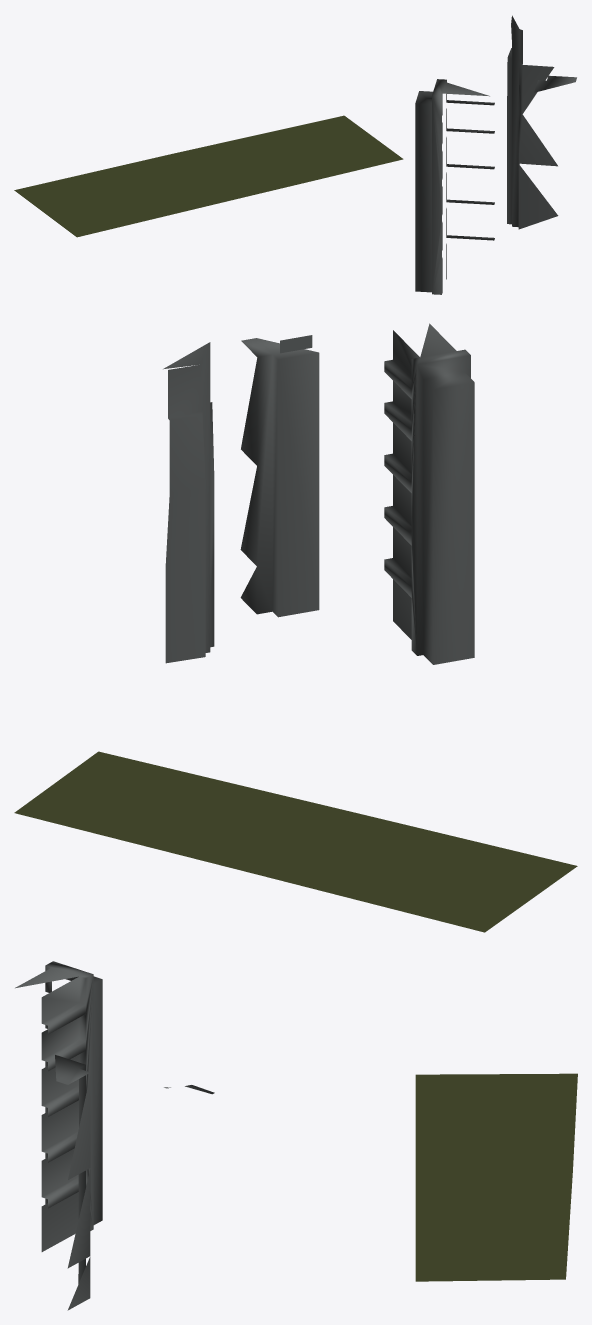
3 views of the same model, one above another, from view 1: azimuth 30°, elevation 25°; view 2: azimuth 150°, elevation 25°; view 3: azimuth 270°, elevation 25° (orthographic). The views are drawn at different scales.
Parts seen in each view (by area): view 1: merged__lod1; view 2: merged__lod1; view 3: merged__lod1.
Boxes of the visible parts, x1=… form: merged__lod1: x1=14, y1=15, x2=576, y2=294; merged__lod1: x1=14, y1=323, x2=577, y2=932; merged__lod1: x1=15, y1=961, x2=577, y2=1310.
Size of the model in its own units: 205 by 111 by 209.
